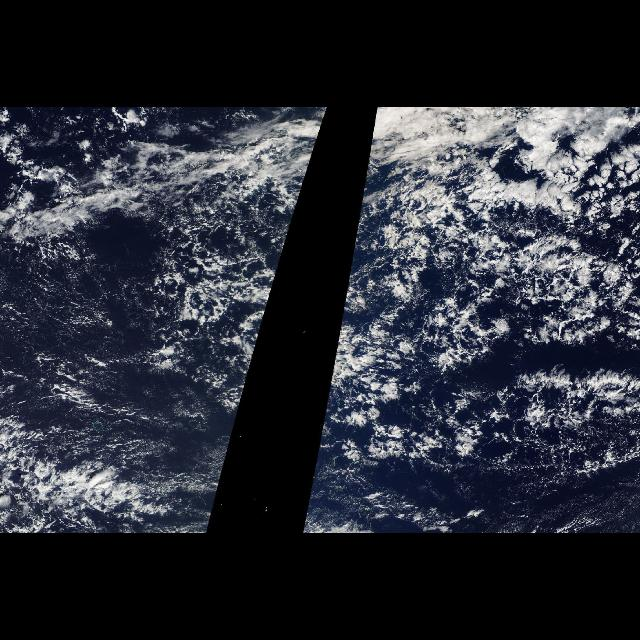Gravel: (312, 148, 640, 518), (102, 131, 314, 477)
Sugar: (1, 237, 232, 486)
